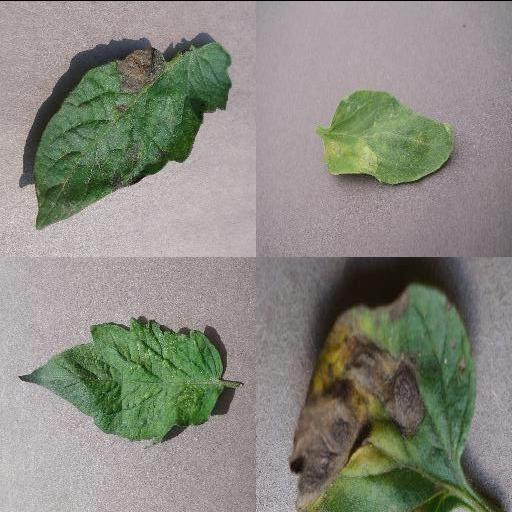Early Blight: (288, 281, 478, 511)
Late Blight: (33, 40, 233, 228), (320, 86, 456, 184)
Spider Mites: (17, 316, 225, 442)
